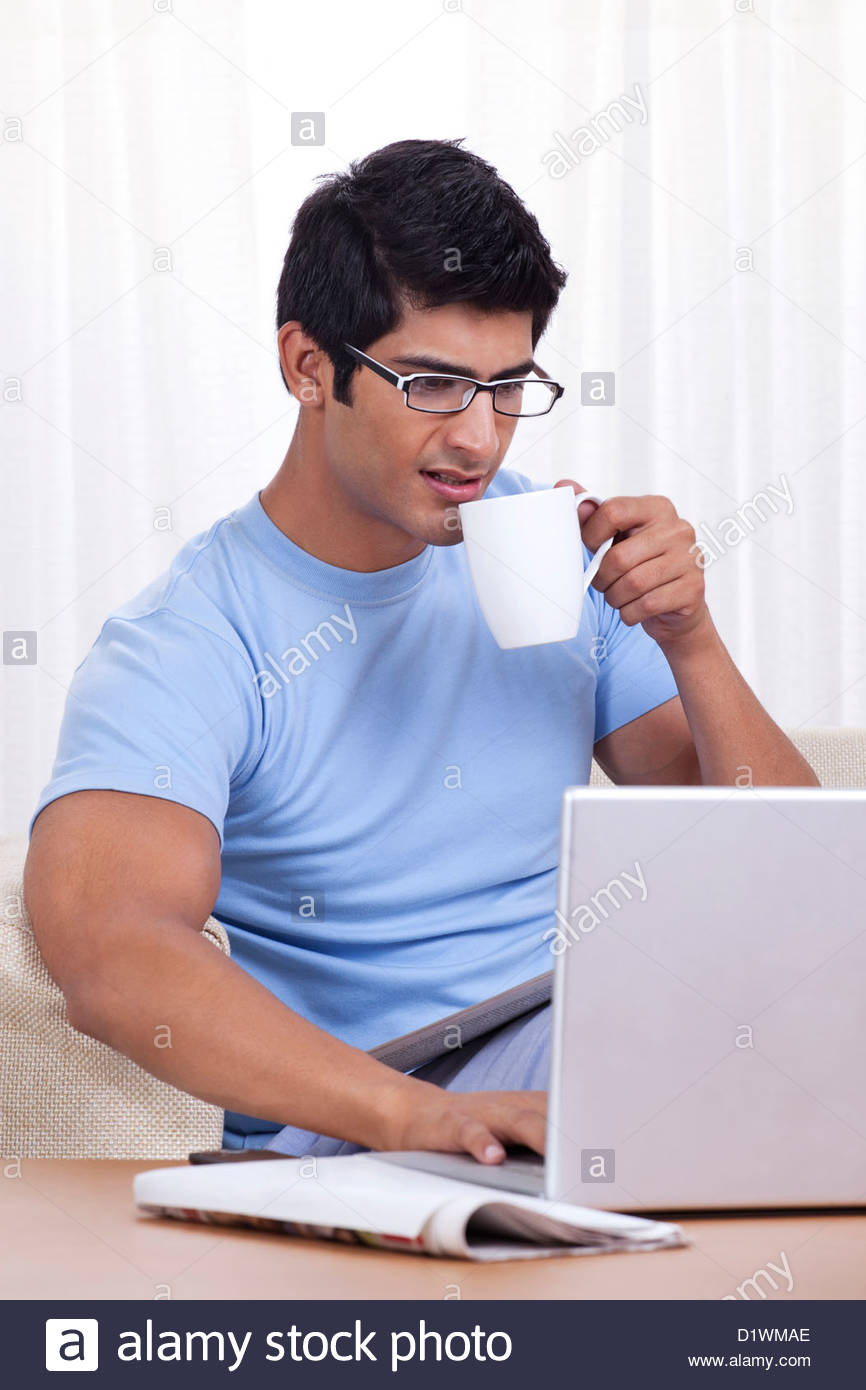drinking: (81, 90, 865, 892)
